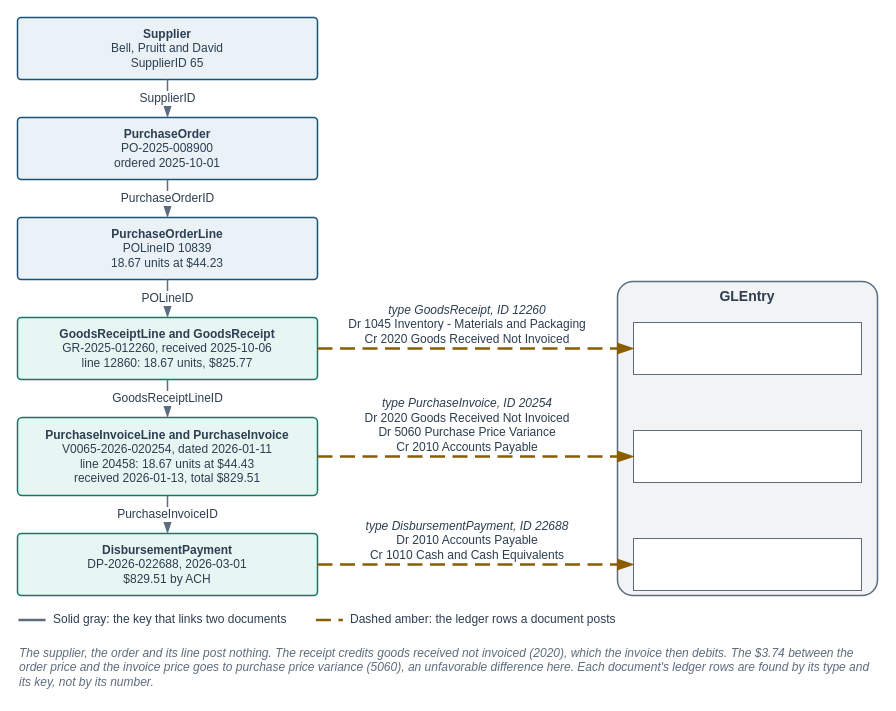
Image size: 896x711. Some labels were removed from this diagram. The shapes that lost their labels are listed below. From the top down, each one's centre as x and y in pixels, then its label:
At point 747,348: "2 rows posted 2025-10-06".
At point 747,456: "3 rows posted 2026-01-13".
At point 747,564: "2 rows posted 2026-03-01".
